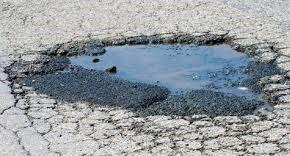alligator-crack: (5, 92, 290, 156)
pothole: (28, 33, 288, 119)
